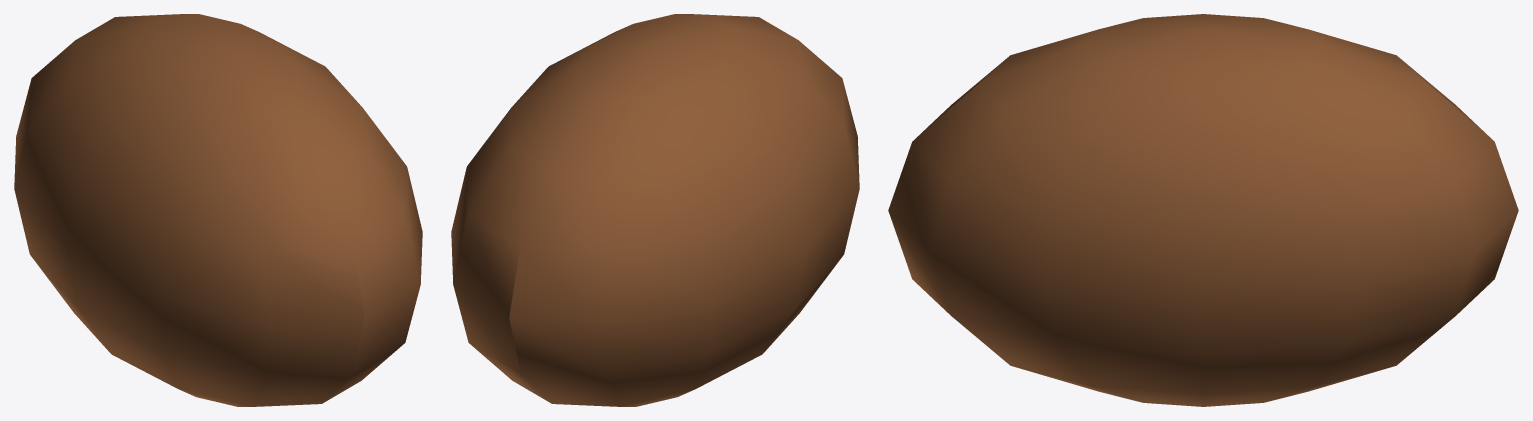
File: SM_Bear_Tail.fbx
3 renders of one model, left to right at view 1: azimuth 30°, elevation 25°; view 2: azimuth 150°, elevation 25°; view 3: azimuth 270°, elevation 25°, orthographic. The views are drawn at different scales.
Parts seen in each view (by area): view 1: SM_Bear_Tail; view 2: SM_Bear_Tail; view 3: SM_Bear_Tail.
Boxes of the visible parts, <box> form: SM_Bear_Tail: <box>14,14,422,406</box>; SM_Bear_Tail: <box>451,14,859,406</box>; SM_Bear_Tail: <box>888,14,1518,406</box>.
Bounding box in the file's own units: 0.58 × 0.61 × 0.97.
1 material, 1 textured.
